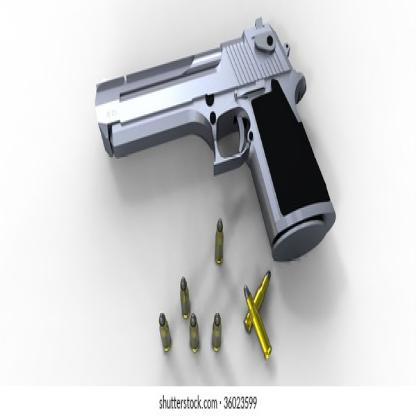handgun: (93, 20, 337, 290)
